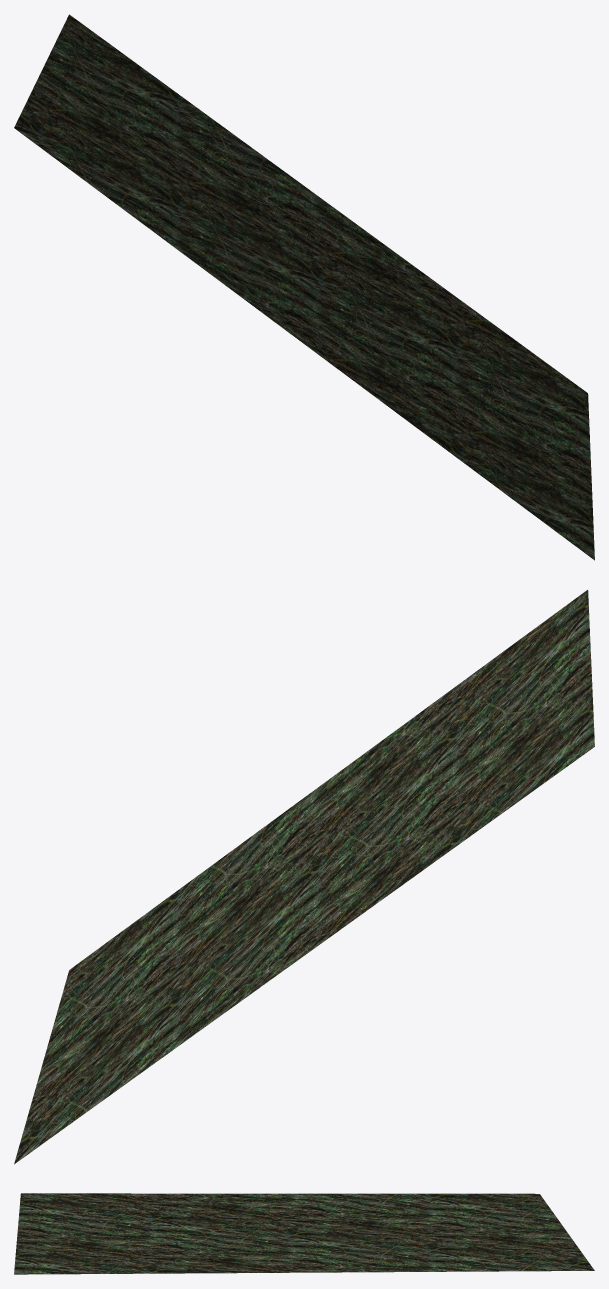
File: decd_dath_overgrownbranch_l2.fbx
The picture shows the model from 3 angles, top to bottom: view 1: azimuth 30°, elevation 25°; view 2: azimuth 150°, elevation 25°; view 3: azimuth 270°, elevation 25°; orthographic projection. The views are drawn at different scales.
Visible parts, largest first — view 1: mesh_node; view 2: mesh_node; view 3: mesh_node.
Part boxes in pixels (<box>): mesh_node: <box>14,14,594,560</box>; mesh_node: <box>14,590,594,1164</box>; mesh_node: <box>14,1193,594,1274</box>.
Size of the model in its own units: 0 by 1.4 by 9.08.
1 material, 1 textured.
